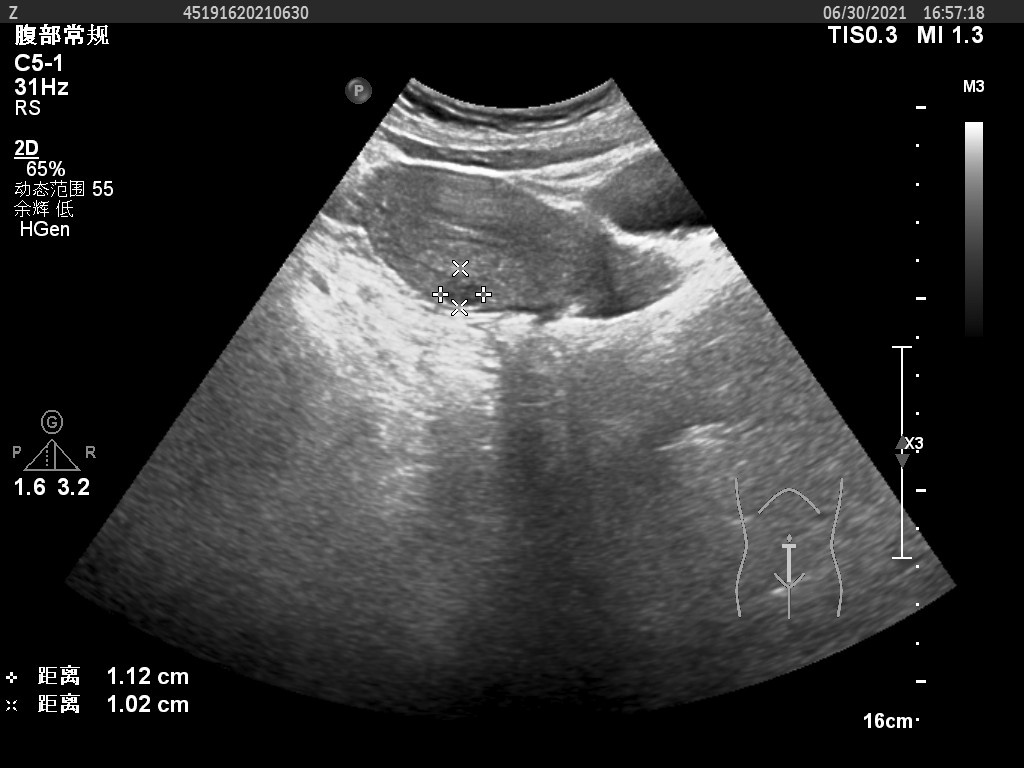肌瘤: (438, 268, 483, 305)
